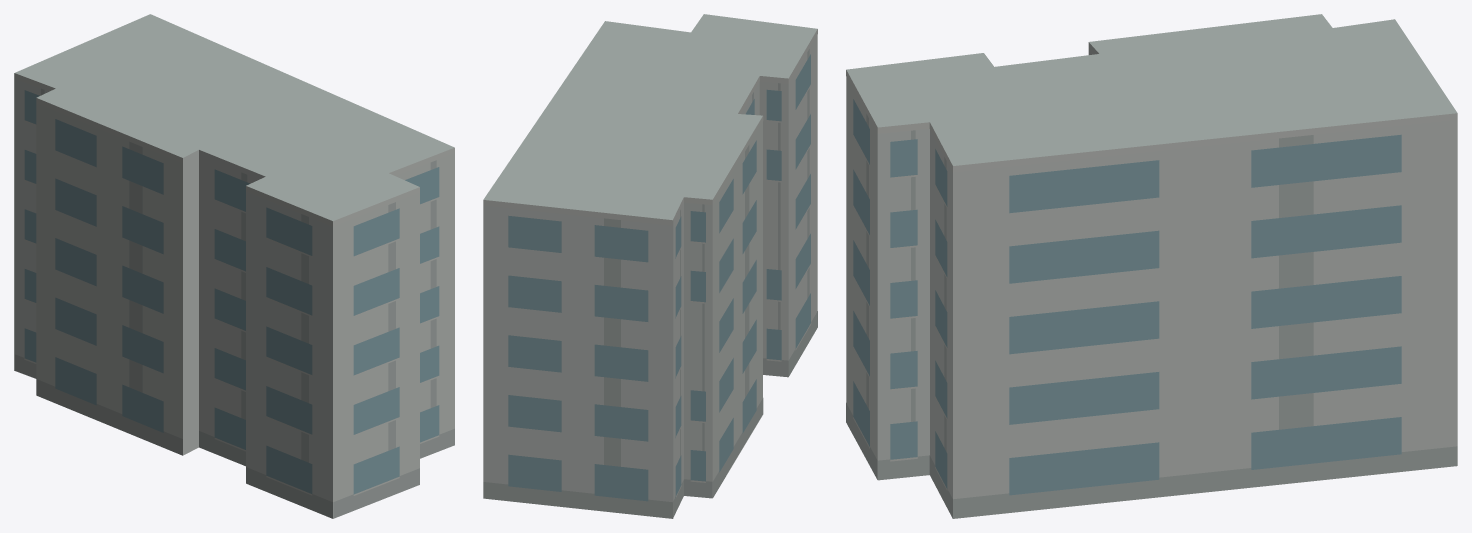
The model's file is survey-upis-32750778.glb.
3 views of the same model, side by side, from view 1: azimuth 30°, elevation 25°; view 2: azimuth 150°, elevation 25°; view 3: azimuth 270°, elevation 25° (orthographic). The views are drawn at different scales.
Visible parts, largest first — view 1: survey-upis-32750778.tmp; view 2: survey-upis-32750778.tmp; view 3: survey-upis-32750778.tmp.
Part boxes in pixels (x1,y1,x2,y2): survey-upis-32750778.tmp: [14, 14, 454, 518]; survey-upis-32750778.tmp: [483, 14, 817, 518]; survey-upis-32750778.tmp: [846, 14, 1457, 518].
Bounding box in the file's own units: 12.12 × 13.1 × 20.59.
